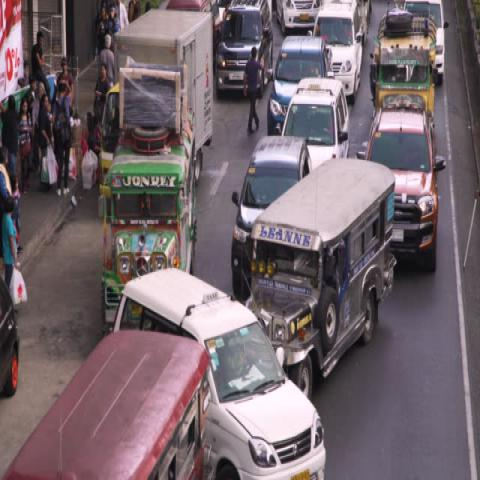car: (119, 276, 327, 479), (231, 138, 308, 302), (371, 112, 444, 279), (268, 42, 324, 130), (219, 0, 271, 92), (315, 3, 364, 92), (279, 88, 347, 147)
truck: (251, 171, 395, 380), (94, 9, 214, 196), (98, 137, 195, 304), (377, 12, 433, 120)
